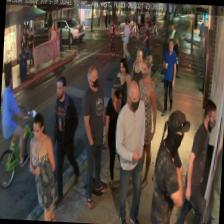person: (173, 97, 218, 224), (110, 79, 146, 224), (76, 65, 112, 210), (149, 108, 191, 224), (49, 75, 84, 207), (127, 53, 158, 188), (26, 112, 60, 220), (100, 76, 127, 188), (112, 58, 132, 136), (160, 37, 178, 116), (127, 48, 145, 118)
